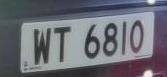0: (127, 17, 146, 58)
1: (117, 17, 129, 61)
6: (82, 20, 103, 65)
8: (102, 18, 121, 63)
T: (52, 23, 76, 67)
W: (29, 25, 54, 70)
